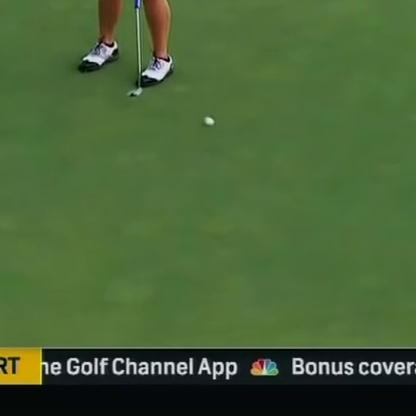golfball: (200, 114, 216, 127)
